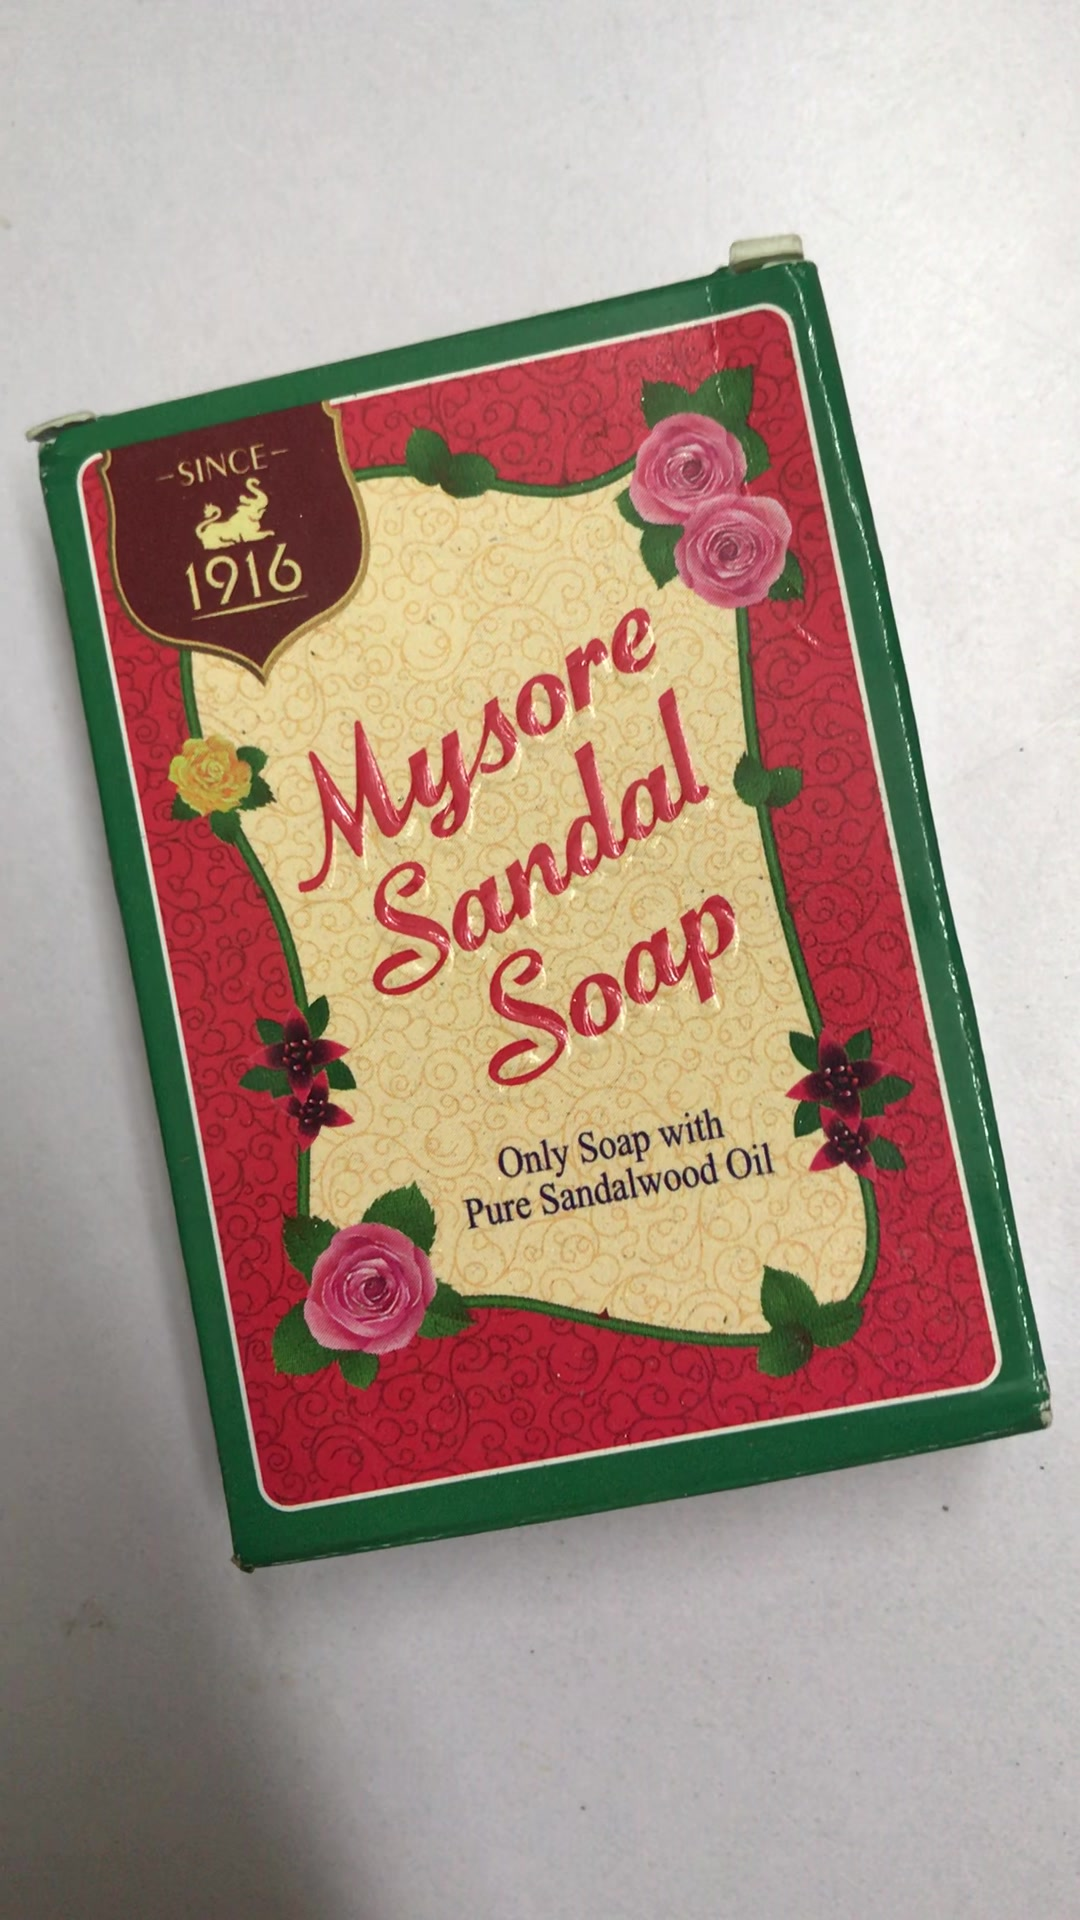mysore sandal soap: (47, 261, 1055, 1575)
